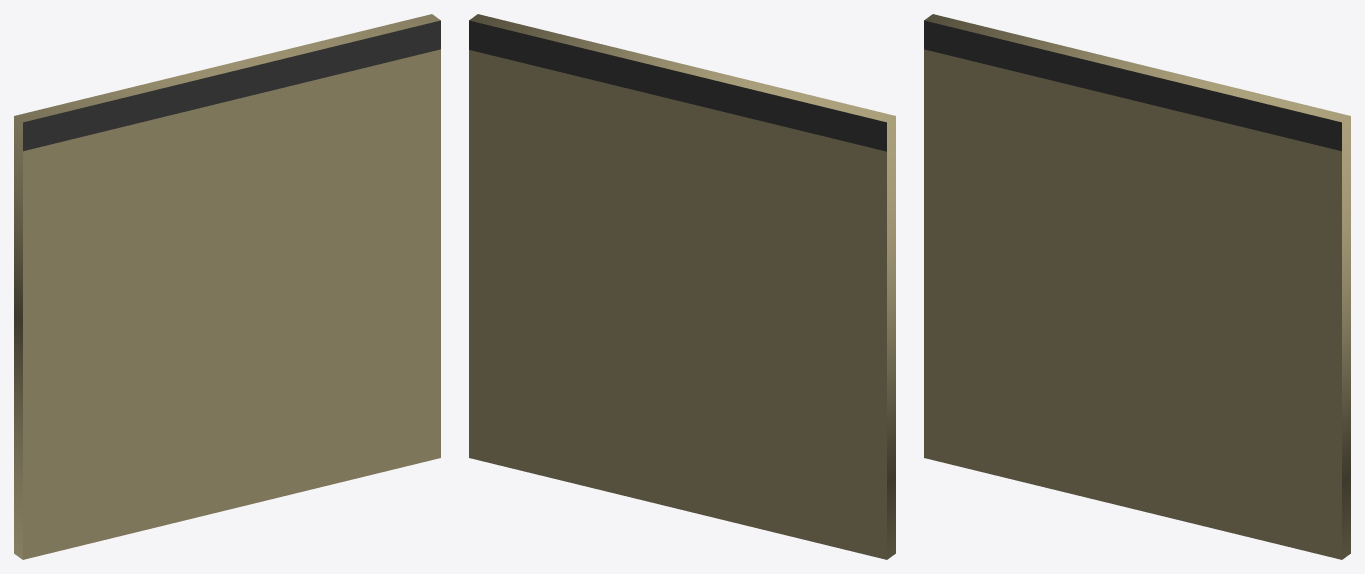
The model's file is Office Wall.fbx.
The picture shows the model from 3 angles, left to right: view 1: azimuth 30°, elevation 25°; view 2: azimuth 150°, elevation 25°; view 3: azimuth 330°, elevation 25°; orthographic projection.
Visible parts, largest first — view 1: office_wall_flat; view 2: office_wall_flat; view 3: office_wall_flat.
Boxes of the visible parts, x1=… form: office_wall_flat: x1=14, y1=14, x2=440, y2=559; office_wall_flat: x1=469, y1=14, x2=895, y2=559; office_wall_flat: x1=924, y1=14, x2=1350, y2=559.
Size of the model in its own units: 300 by 300 by 10.97.
